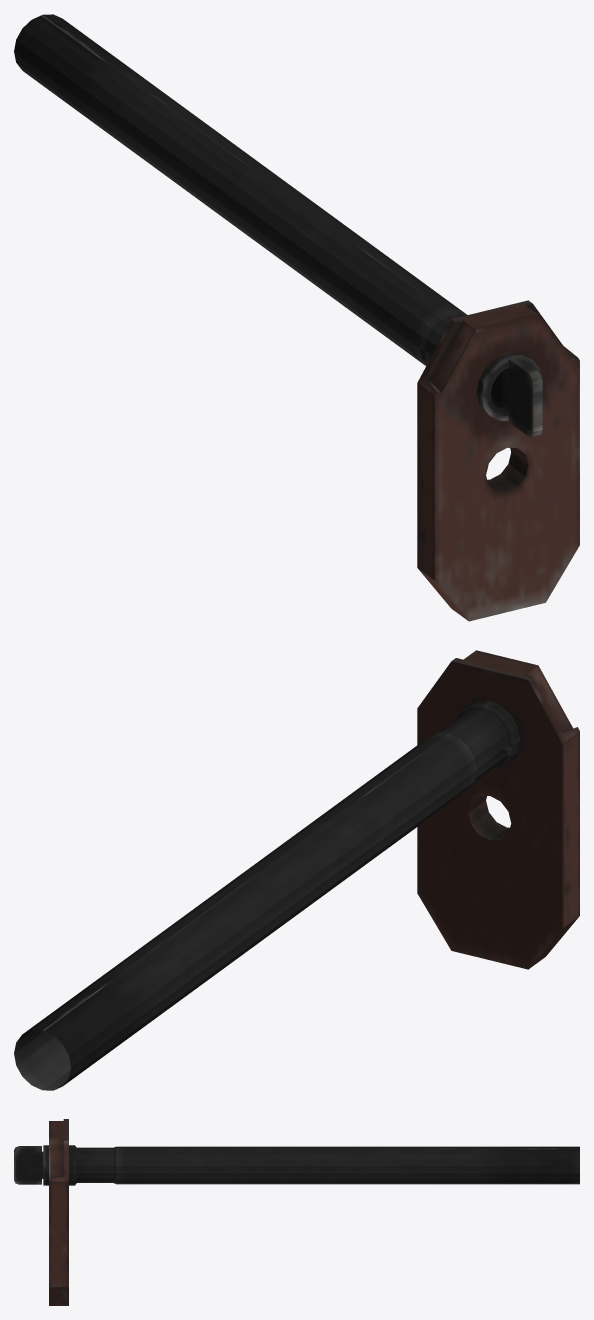
The picture shows the model from 3 angles, top to bottom: view 1: azimuth 30°, elevation 25°; view 2: azimuth 150°, elevation 25°; view 3: azimuth 270°, elevation 25°; orthographic projection. The views are drawn at different scales.
Visible parts, largest first — view 1: TW_64637076203536ad5600c990_PZ_Import; view 2: TW_64637076203536ad5600c990_PZ_Import; view 3: TW_64637076203536ad5600c990_PZ_Import.
Part boxes in pixels (bbox=[...]): TW_64637076203536ad5600c990_PZ_Import: bbox=[14, 14, 579, 621]; TW_64637076203536ad5600c990_PZ_Import: bbox=[14, 650, 579, 1090]; TW_64637076203536ad5600c990_PZ_Import: bbox=[14, 1119, 579, 1305].
Size of the model in its own units: 0.0179 by 0.1055 by 0.034.
Materials: 1 (1 with a texture image).
